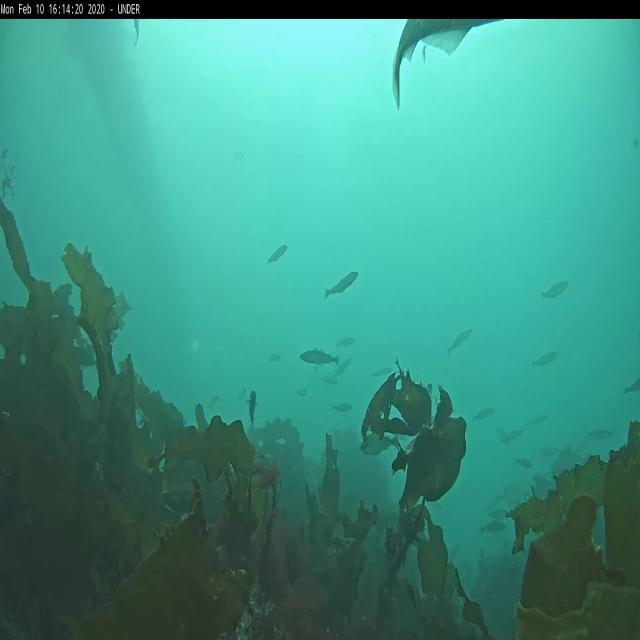fish: (392, 19, 504, 111), (300, 346, 340, 369), (360, 431, 400, 454), (326, 271, 359, 296), (447, 326, 471, 359), (540, 280, 569, 300), (268, 240, 288, 268), (334, 358, 354, 380), (480, 520, 506, 536), (246, 390, 258, 424), (532, 352, 560, 366), (472, 406, 494, 422), (514, 453, 532, 470), (586, 428, 611, 440), (132, 20, 142, 50), (526, 413, 547, 427), (624, 377, 640, 395), (329, 400, 352, 412), (371, 366, 393, 378), (335, 335, 355, 348), (319, 374, 339, 386)
